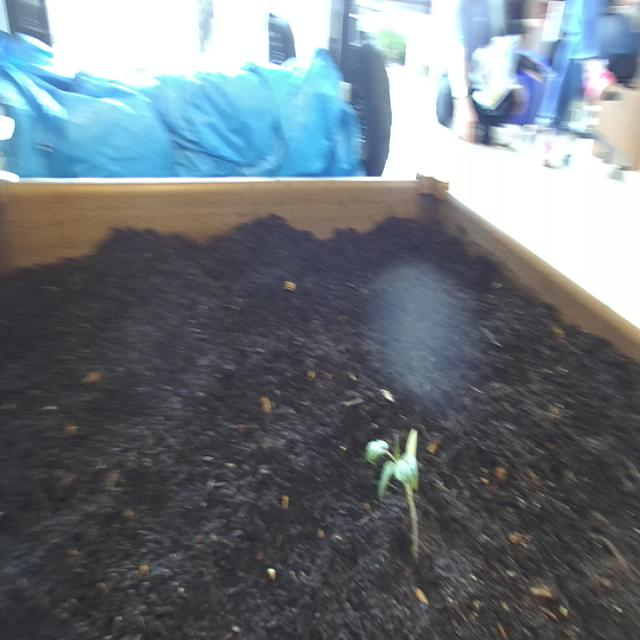Healthy: (358, 410, 438, 579)
